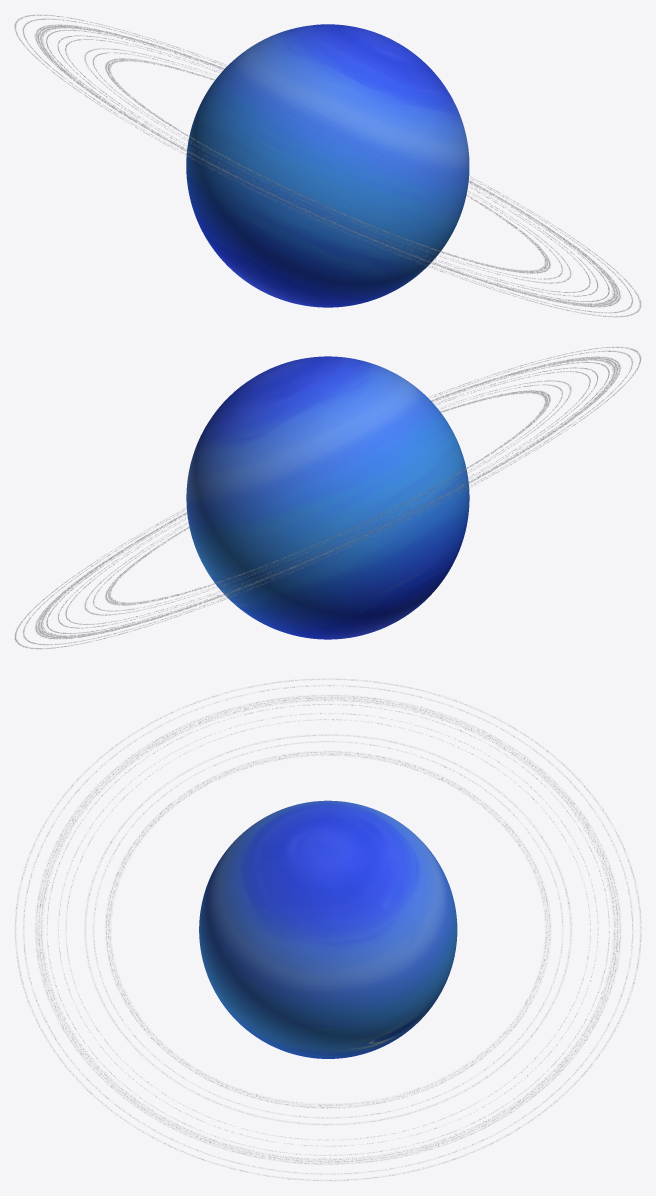
Rendered from neptune.glb.
3 views of the same model, one above another, from view 1: azimuth 30°, elevation 25°; view 2: azimuth 150°, elevation 25°; view 3: azimuth 270°, elevation 25° (orthographic). The views are drawn at different scales.
Visible parts, largest first — view 1: neptune1_A_neptune1_A_0, neptune2_A_neptune2_A_0; view 2: neptune1_A_neptune1_A_0, neptune2_A_neptune2_A_0; view 3: neptune1_A_neptune1_A_0, neptune2_A_neptune2_A_0.
Boxes of the visible parts, x1,y1,x2,y2 form: neptune1_A_neptune1_A_0: (186,24,469,307); neptune2_A_neptune2_A_0: (14,15,641,317); neptune1_A_neptune1_A_0: (186,356,469,639); neptune2_A_neptune2_A_0: (14,347,641,649); neptune1_A_neptune1_A_0: (199,800,457,1058); neptune2_A_neptune2_A_0: (15,679,641,1180).
Size of the model in its own units: 1040 by 562 by 1181.
3 materials, 3 textured.
